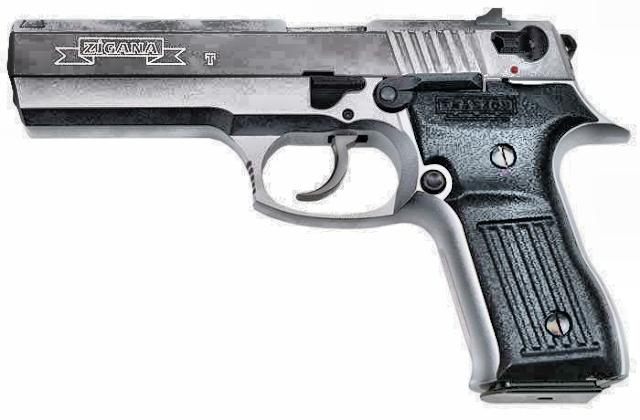pistol: (7, 6, 626, 403)
